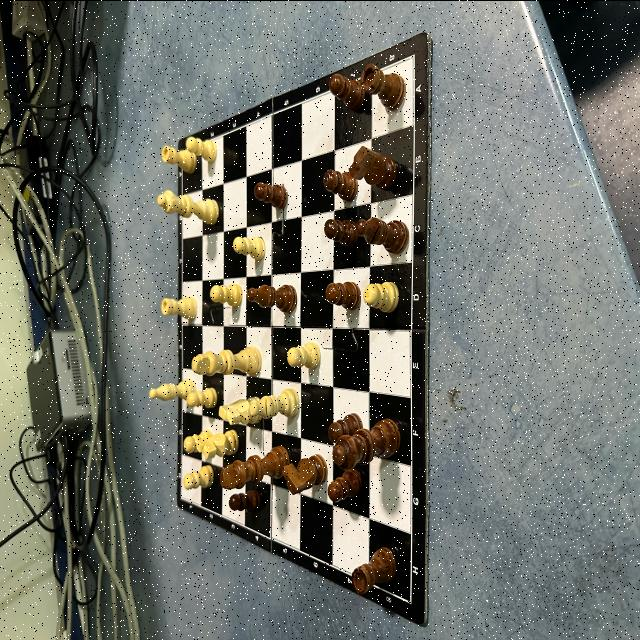Black-Bishop: (356, 216, 408, 252), (246, 284, 296, 312)
Black-King: (220, 446, 286, 490)
Black-Knight: (348, 145, 396, 190), (282, 452, 326, 493)
Black-Pawn: (330, 73, 364, 109), (328, 468, 362, 502), (323, 168, 357, 200), (323, 218, 358, 246), (326, 280, 360, 308), (328, 412, 362, 439), (228, 488, 263, 514), (253, 182, 287, 208)
Black-Queen: (332, 417, 399, 468)
Black-Rook: (351, 548, 396, 596), (361, 63, 405, 109)
White-Bishop: (252, 388, 300, 419), (150, 378, 197, 400)
White-King: (192, 346, 262, 376)
White-Knight: (218, 396, 262, 424), (196, 429, 238, 457)
White-Pawn: (363, 280, 399, 312), (288, 342, 320, 368), (186, 136, 216, 162), (233, 236, 266, 259), (184, 429, 214, 454), (184, 464, 214, 488), (210, 283, 242, 305), (188, 387, 216, 407)
White-Queen: (157, 189, 219, 224)
White-Rook: (162, 145, 196, 171), (161, 296, 197, 319)
